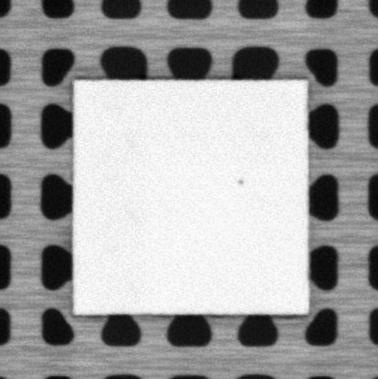DIE_INK: (236, 176, 245, 185)
